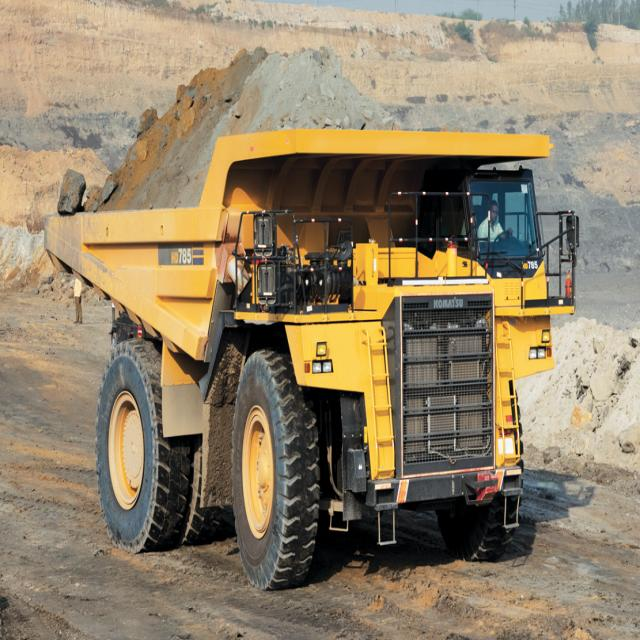dump_truck: (54, 118, 577, 599)
